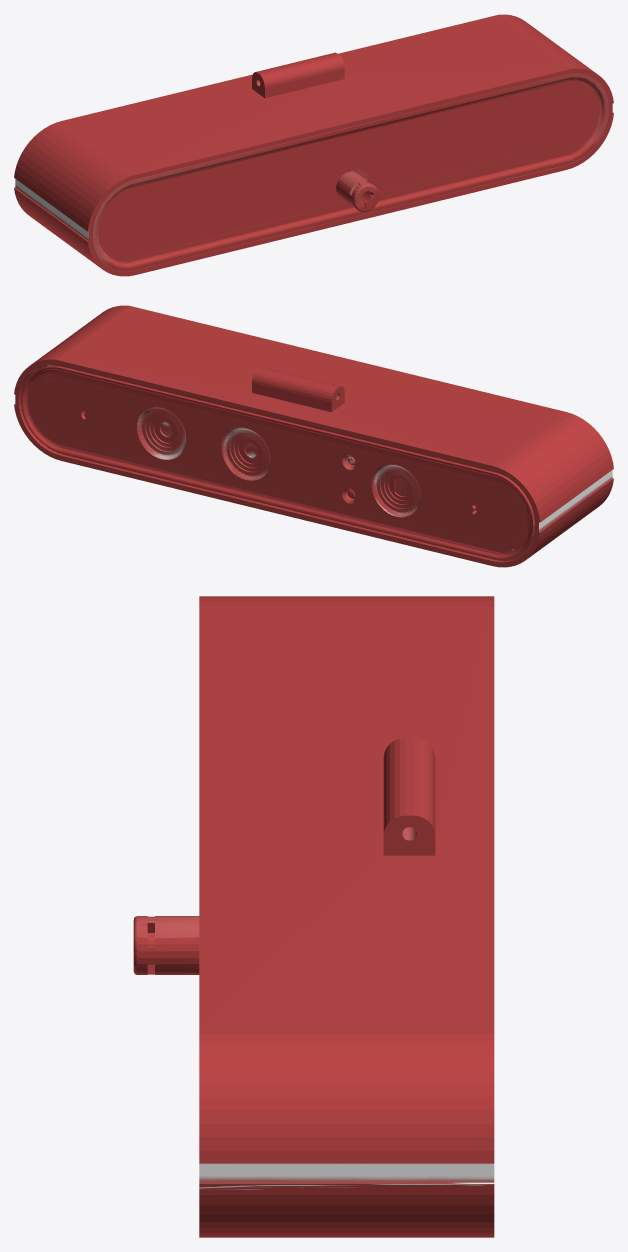
The model's file is astra2_red.dae.
The picture shows the model from 3 angles, top to bottom: view 1: azimuth 30°, elevation 25°; view 2: azimuth 150°, elevation 25°; view 3: azimuth 270°, elevation 25°; orthographic projection. The views are drawn at different scales.
Parts seen in each view (by area): view 1: Astra Body; view 2: Astra Body; view 3: Astra Body.
Part boxes in pixels (box(x1,y1,x2,y2)): Astra Body: box(14, 14, 613, 276); Astra Body: box(14, 305, 613, 567); Astra Body: box(133, 596, 494, 1237).
Bounding box in the file's own units: 0.1648 × 0.0489 × 0.036.
Materials: 1 (1 with a texture image).
